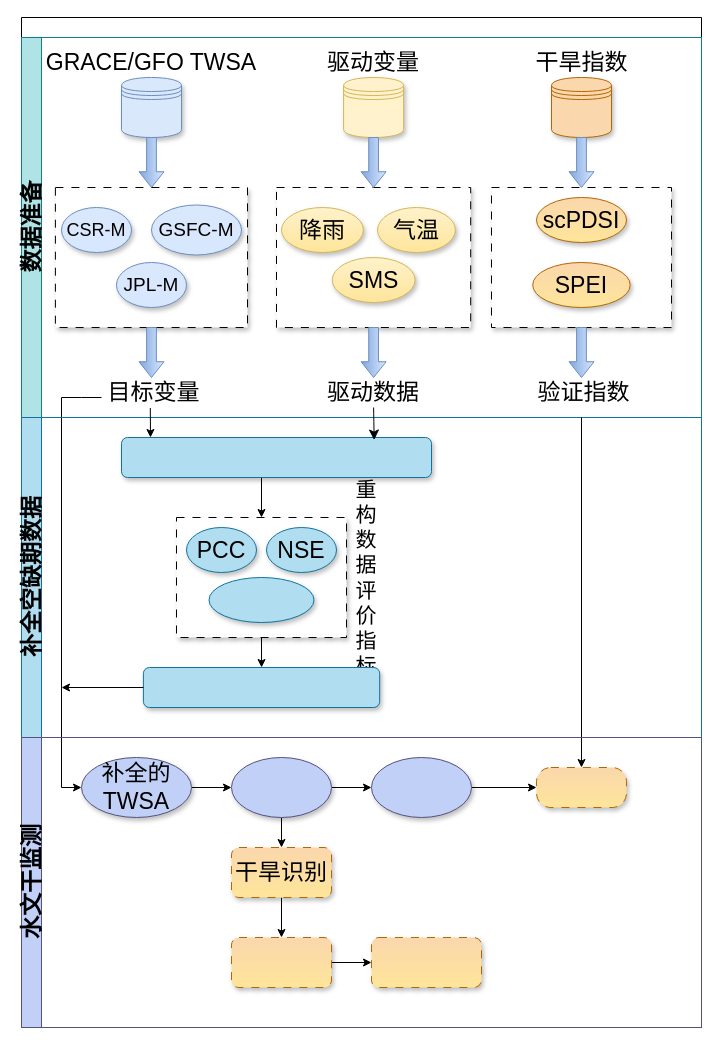
The diagram is 719 pixels wide and 1045 high, and some of its shapes have lost their labels. The centre of each missing label's shape, as x and y in pixels:
NRMSE: (262,601)
WSD: (282,788)
WSDI: (422,788)
基于双步线性模型的重构方法: (277,458)
干旱原因: (427,963)
干旱量化: (282,963)
空缺期重构TWSA数据: (262,688)
验证: (582,788)
